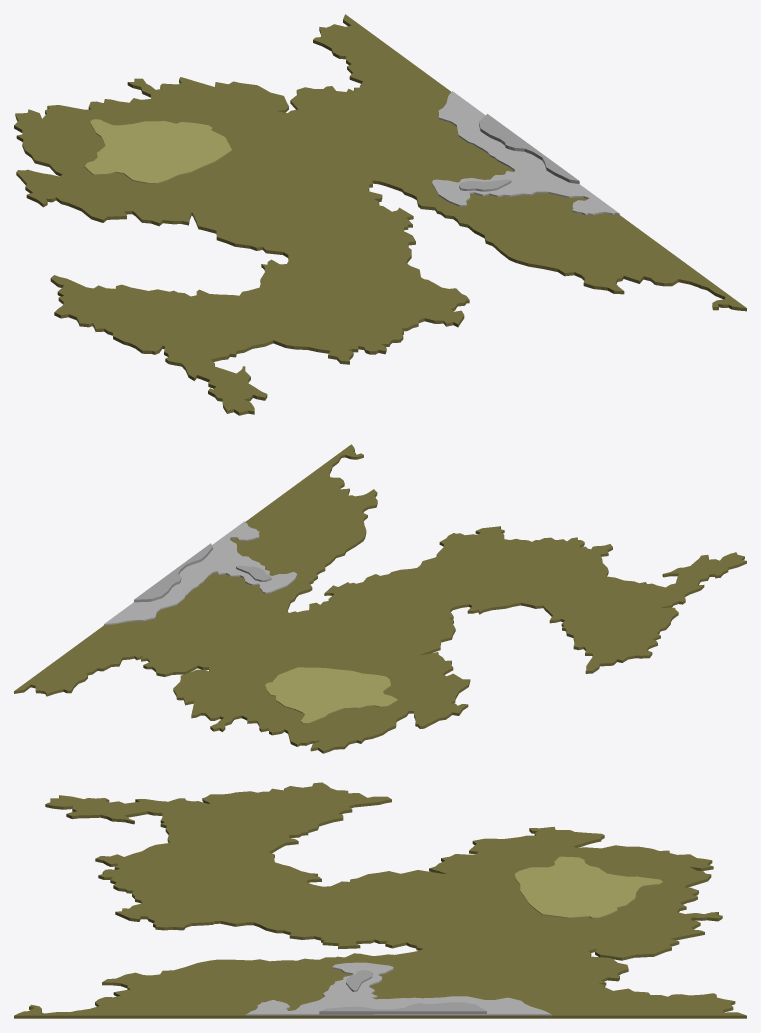
File: WorldMapLowPoly.fbx
3 views of the same model, one above another, from view 1: azimuth 30°, elevation 25°; view 2: azimuth 150°, elevation 25°; view 3: azimuth 270°, elevation 25° (orthographic). The views are drawn at different scales.
Parts seen in each view (by area): view 1: Land, GrassL1, MountainL1, MountainL2.001; view 2: Land, GrassL1, MountainL1, MountainL2.001; view 3: Land, GrassL1, MountainL1, MountainL2.001.
Part boxes in pixels (x1,y1,x2,y2): Land: (14,14,746,415); GrassL1: (84,119,231,183); MountainL1: (432,91,619,215); MountainL2.001: (479,114,579,183); Land: (14,444,746,753); GrassL1: (265,667,397,723); MountainL1: (104,521,297,625); MountainL2.001: (134,543,212,602); Land: (14,782,746,1018); GrassL1: (514,856,662,918); MountainL1: (246,962,551,1016); MountainL2.001: (319,1002,486,1014).
Bounding box in the file's own units: 453 × 6.55 × 602.
